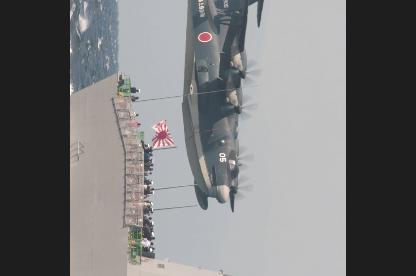Tu95: (181, 0, 267, 212)
